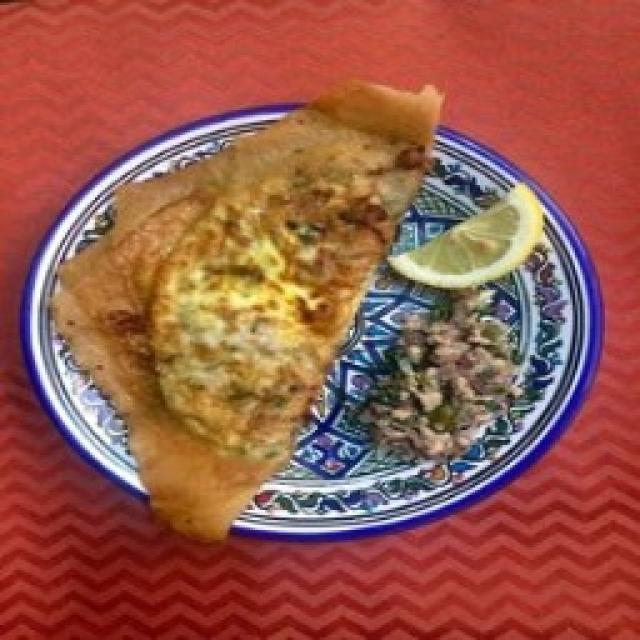Brik: (50, 80, 442, 545)
